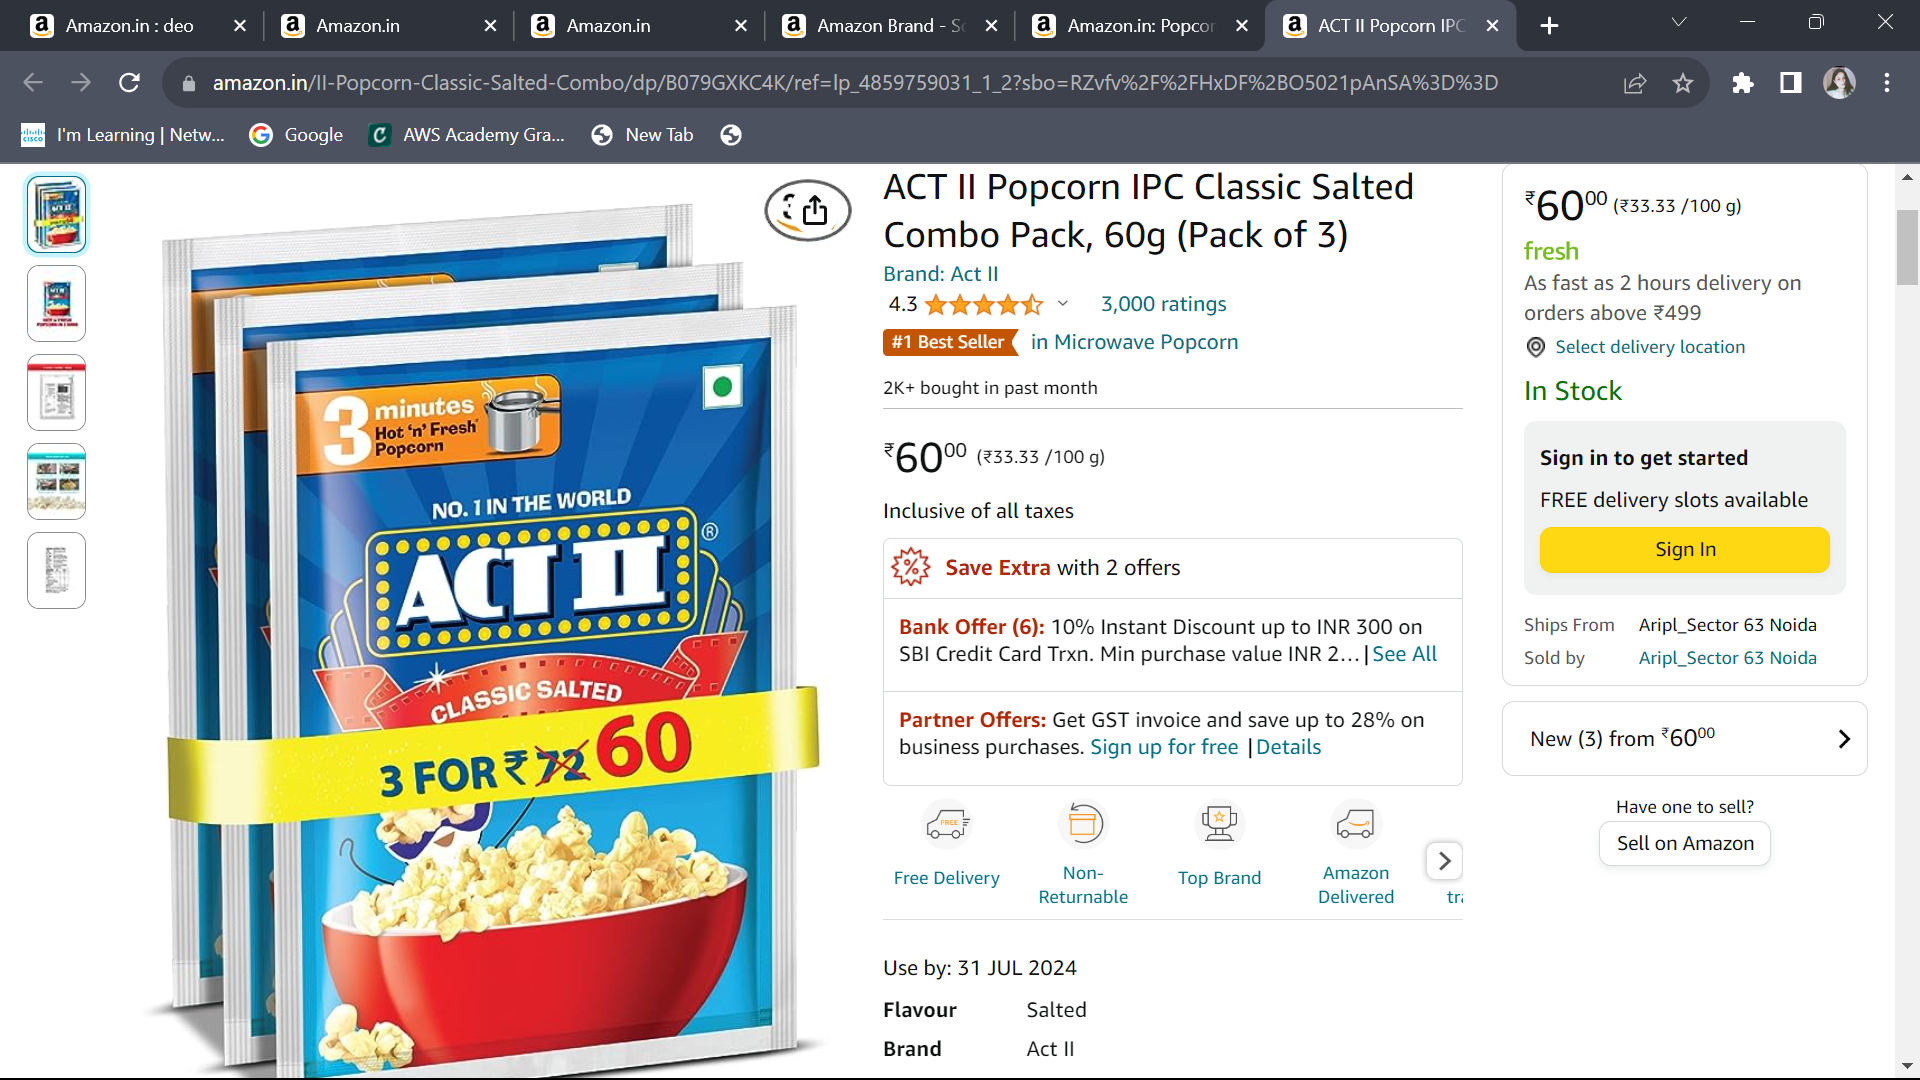Image: (161, 182, 800, 1072), (1296, 777, 1427, 855), (1058, 794, 1134, 857), (1200, 773, 1257, 855), (926, 800, 985, 843)
Paragraph: (860, 618, 1481, 746), (857, 144, 1460, 262), (1528, 451, 1845, 591), (845, 944, 1126, 1080), (1511, 236, 1842, 331), (872, 418, 1174, 498), (893, 538, 1249, 595), (851, 278, 1251, 326), (1520, 182, 1755, 236), (1153, 845, 1296, 916), (866, 501, 1129, 538), (1493, 382, 1684, 430), (1505, 335, 1762, 364), (866, 857, 1009, 905), (869, 376, 1129, 400), (857, 251, 1042, 284), (1313, 857, 1415, 907), (1036, 869, 1122, 907)
